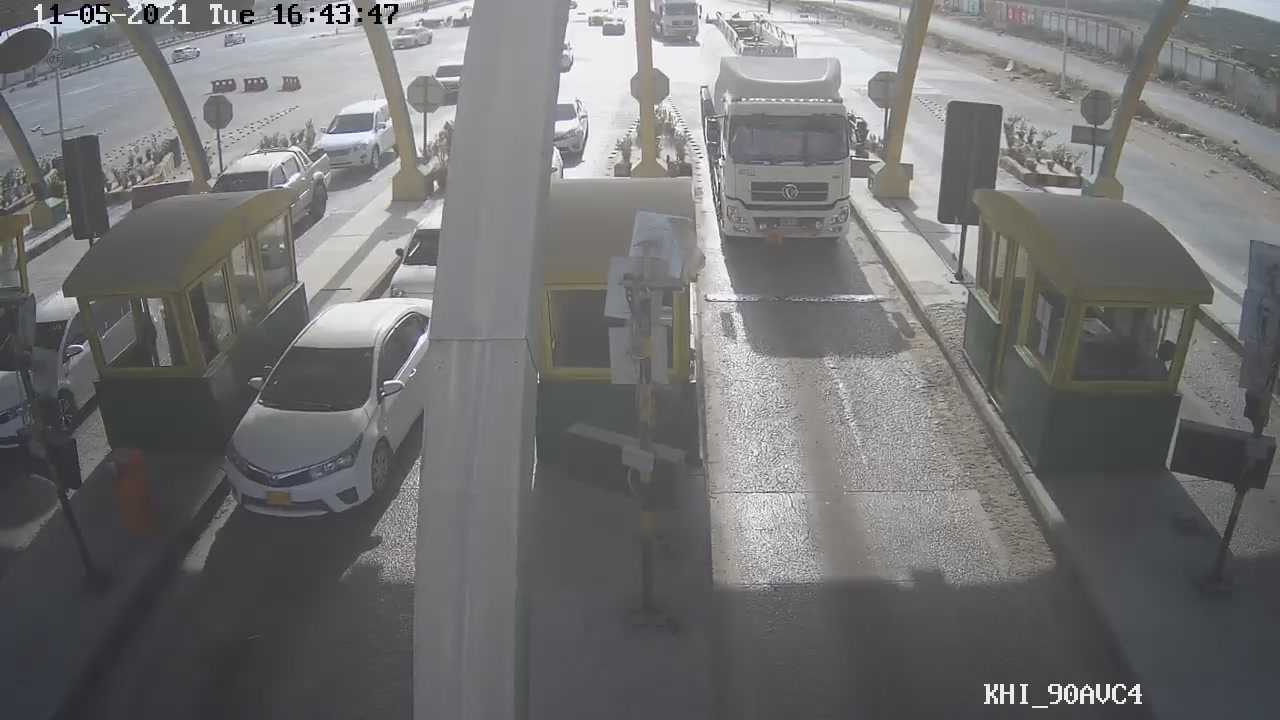F6: (693, 46, 876, 248)
